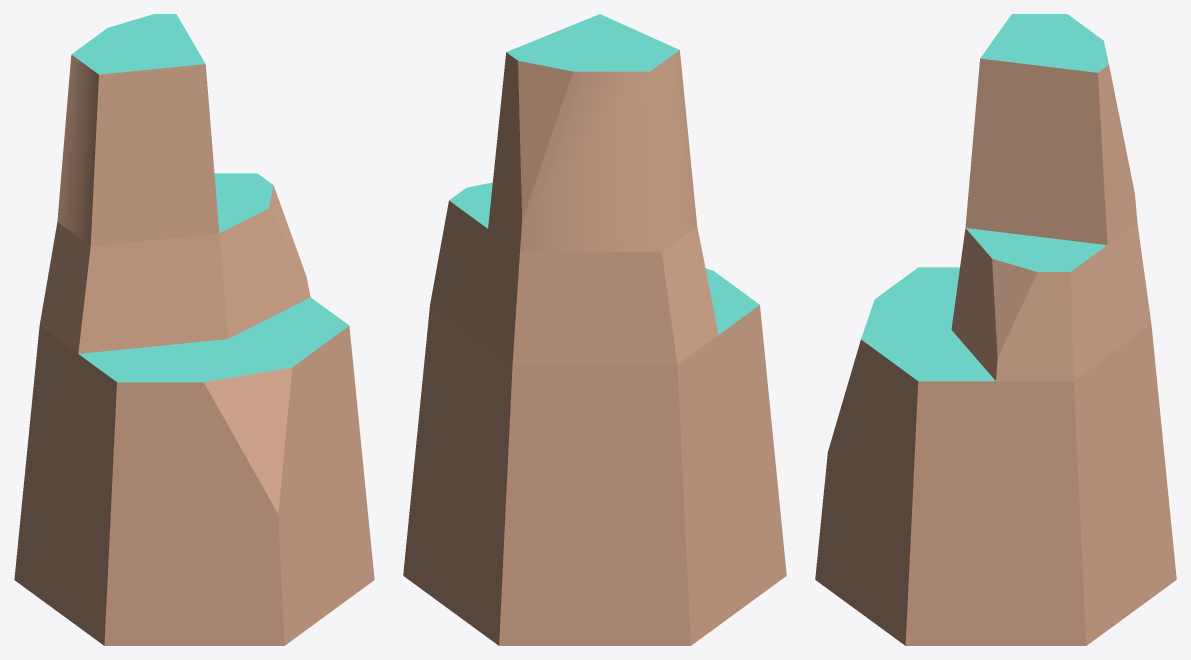
The model's file is Cliff_Complex4.fbx.
3 renders of one model, left to right at view 1: azimuth 30°, elevation 25°; view 2: azimuth 150°, elevation 25°; view 3: azimuth 270°, elevation 25°, orthographic. The views are drawn at different scales.
Visible parts, largest first — view 1: Cliff_Complex4; view 2: Cliff_Complex4; view 3: Cliff_Complex4.
Boxes of the visible parts, x1,y1,x2,y2 form: Cliff_Complex4: [14, 14, 374, 645]; Cliff_Complex4: [403, 14, 786, 645]; Cliff_Complex4: [815, 14, 1176, 645].
Bounding box in the file's own units: 778 × 1433 × 898.
